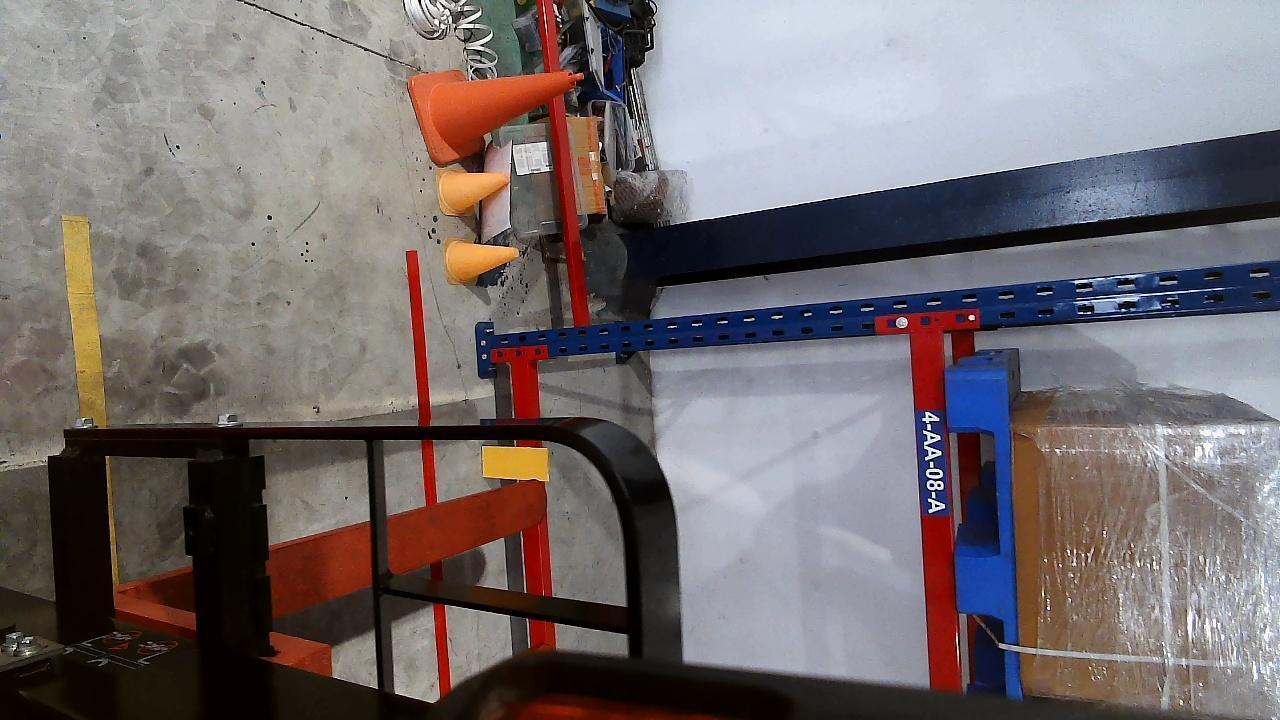red_line: (404, 250, 451, 696)
yellow_line: (59, 214, 106, 426)
